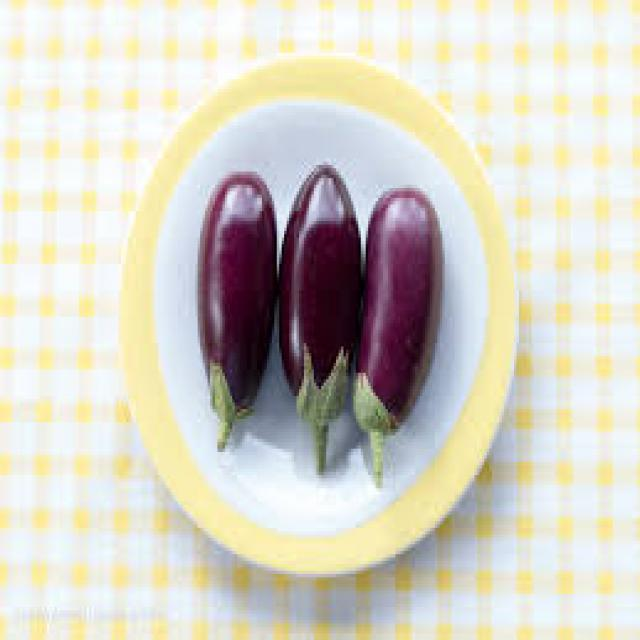organic waste: (274, 155, 361, 475), (351, 184, 442, 482), (198, 168, 274, 446)
